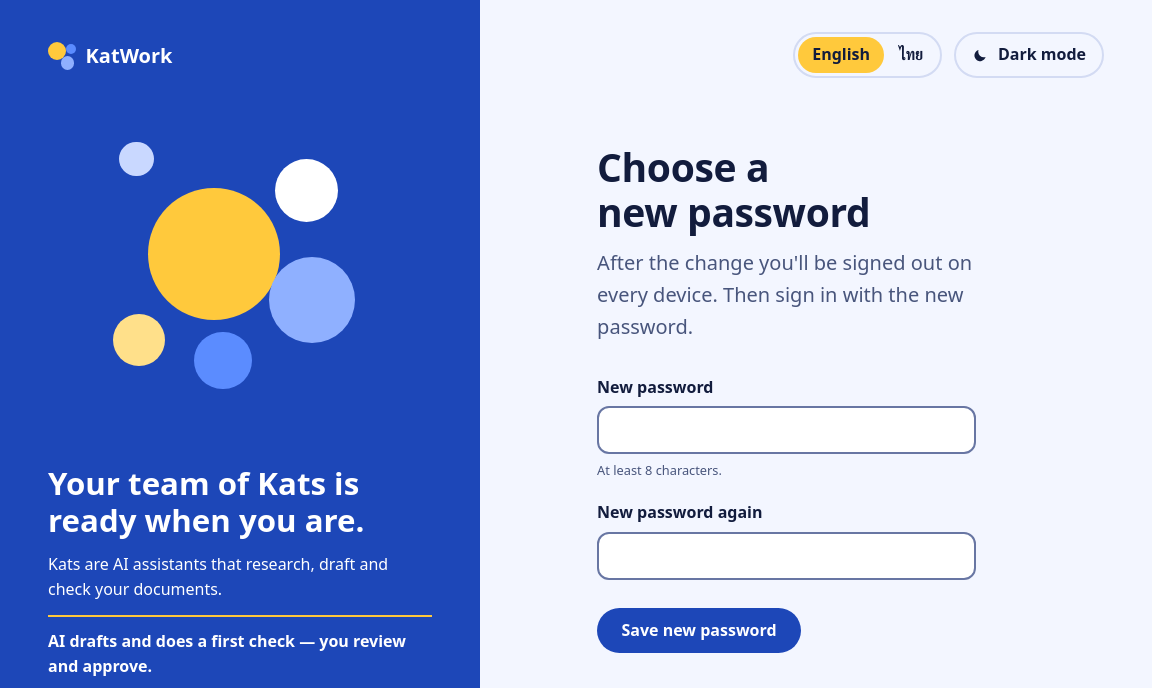
reset_confirm_checks_length_before_sending
Type "short" into the password field labelled "New password".
click(787, 430); type("short")  # box x1=597 y1=406 x2=976 y2=454
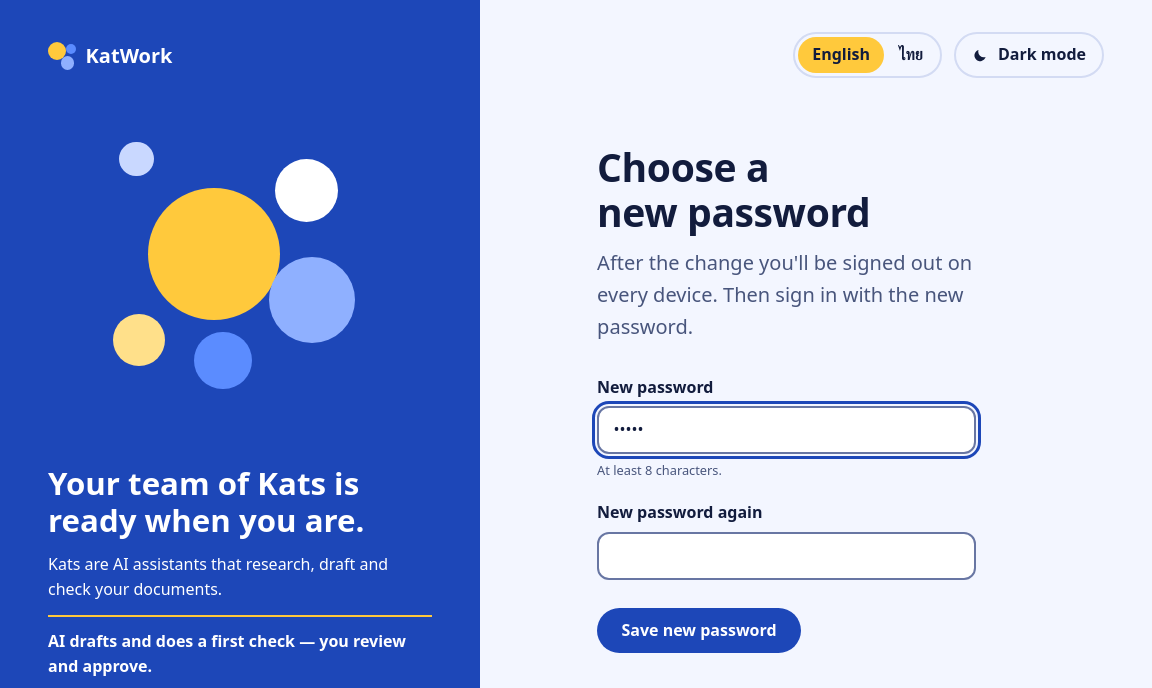
Type "short" into the password field labelled "New password again".
click(787, 556); type("short")  # box x1=597 y1=532 x2=976 y2=580
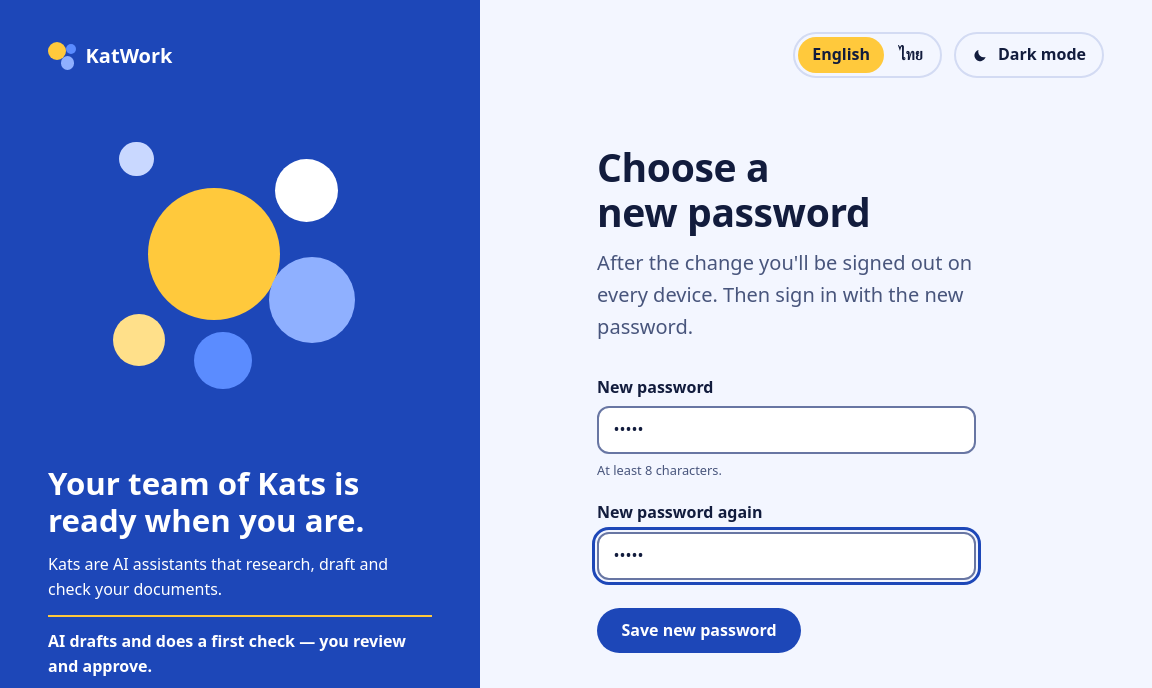
Click the button "Save new password".
click(699, 630)  # box x1=597 y1=608 x2=801 y2=653
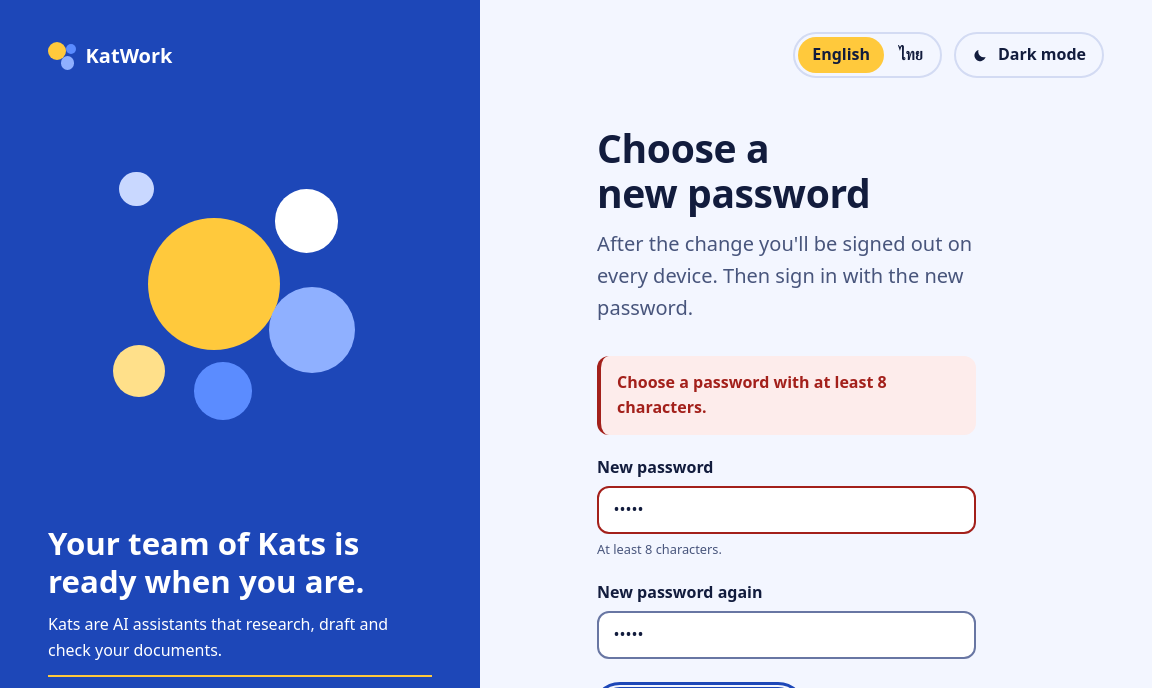
Expected: the message reads "Choose a password with at least 8 characters.", x1=617 y1=371 x2=887 y2=418
